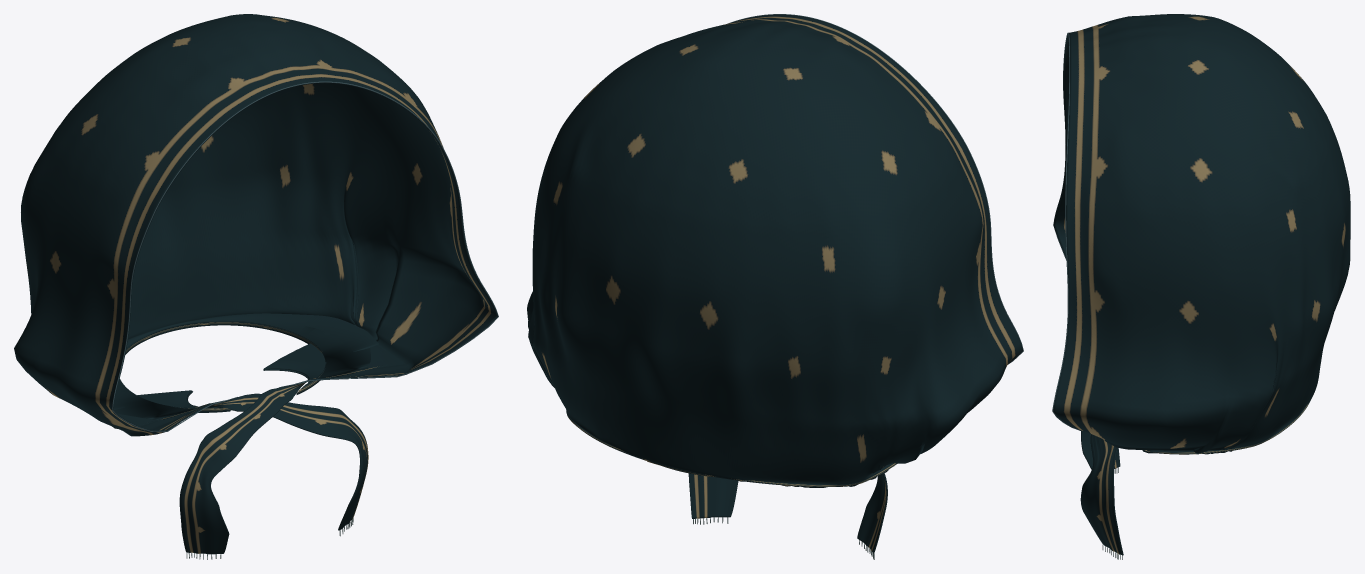
The model's file is Feminine-straight-sweatshirt-pashmina249-headgear.glb.
3 views of the same model, side by side, from view 1: azimuth 30°, elevation 25°; view 2: azimuth 150°, elevation 25°; view 3: azimuth 270°, elevation 25° (orthographic). The views are drawn at different scales.
Parts seen in each view (by area): view 1: 226 headgear / Headwear / continuous woven pashmina239, 226 headgear / Headwear / face edge239; view 2: 226 headgear / Headwear / continuous woven pashmina239, 226 headgear / Headwear / face edge239; view 3: 226 headgear / Headwear / continuous woven pashmina239, 226 headgear / Headwear / face edge239.
Boxes of the visible parts, x1,y1,x2,y2 form: 226 headgear / Headwear / continuous woven pashmina239: (14,14,498,554); 226 headgear / Headwear / face edge239: (112,81,498,432); 226 headgear / Headwear / continuous woven pashmina239: (527,14,1023,553); 226 headgear / Headwear / face edge239: (727,14,1023,364); 226 headgear / Headwear / continuous woven pashmina239: (1053,14,1350,555); 226 headgear / Headwear / face edge239: (1052,32,1082,430).
Bounding box in the file's own units: 1.25 × 1.41 × 0.7793.
Materials: 3 (1 with a texture image).
